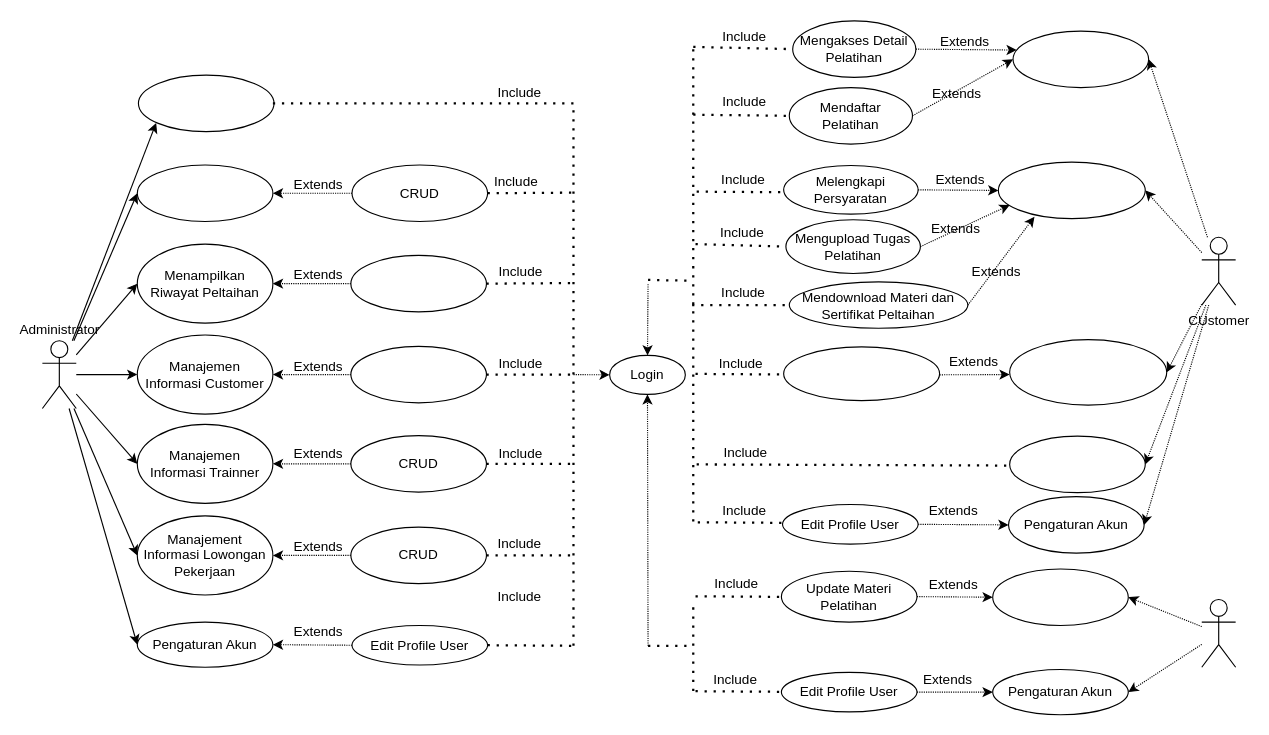
The diagram is 1269 pixels wide and 735 high, and some of its shapes have lost their labels. The centre of each missing label's shape, as x and y in pixels:
"Management Daftar pelatihan" goes at pixel 204 192.
"Management Kelas Pelatihan" goes at pixel 1060 596.
"Menampilkan Dashboard" goes at pixel 205 103.
"Mengakses Daftar Pelraihan" goes at pixel 1080 59.
"Mengakses Detail Lowongan Pekerjaan" goes at pixel 861 373.
"Mengakses Informasi Lowongan Pekerjaan" goes at pixel 1088 371.
"Mengakses Pelatihan yang diikuti" goes at pixel 1071 190.
"Profile Perusahaan" goes at pixel 1077 464.
"Read, Delete" goes at pixel 418 283.
"Read, Update, Delete" goes at pixel 418 374.
"Trainer" goes at pixel 1218 632.
